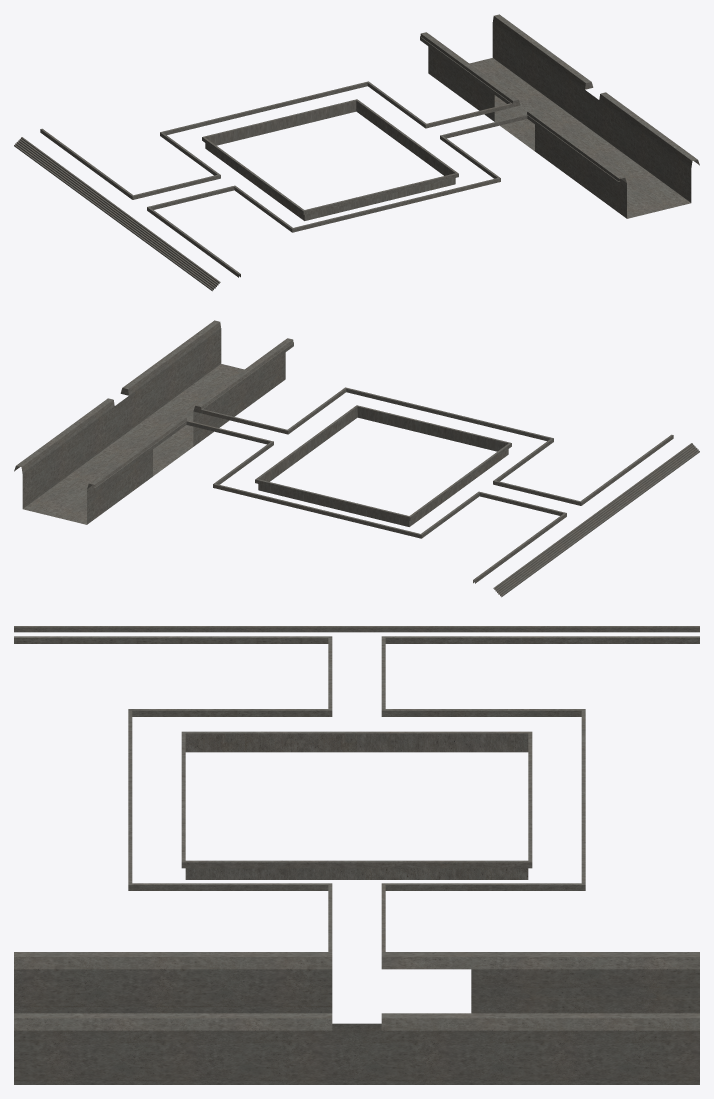
Rendered from floor02.FBX.
3 renders of one model, top to bottom at view 1: azimuth 30°, elevation 25°; view 2: azimuth 150°, elevation 25°; view 3: azimuth 270°, elevation 25°, orthographic. The views are drawn at different scales.
Visible parts, largest first — view 1: floor02; view 2: floor02; view 3: floor02.
Part boxes in pixels (x1=…): floor02: x1=14, y1=14, x2=699, y2=291; floor02: x1=14, y1=320, x2=699, y2=597; floor02: x1=14, y1=626, x2=699, y2=1084.
Bounding box in the file's own units: 23357 × 1914 × 16493.
